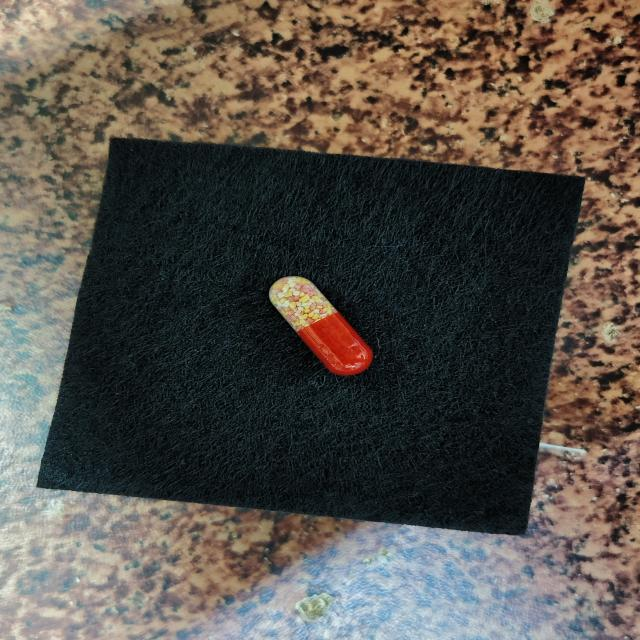Intact Capsule: (269, 275, 373, 375)
